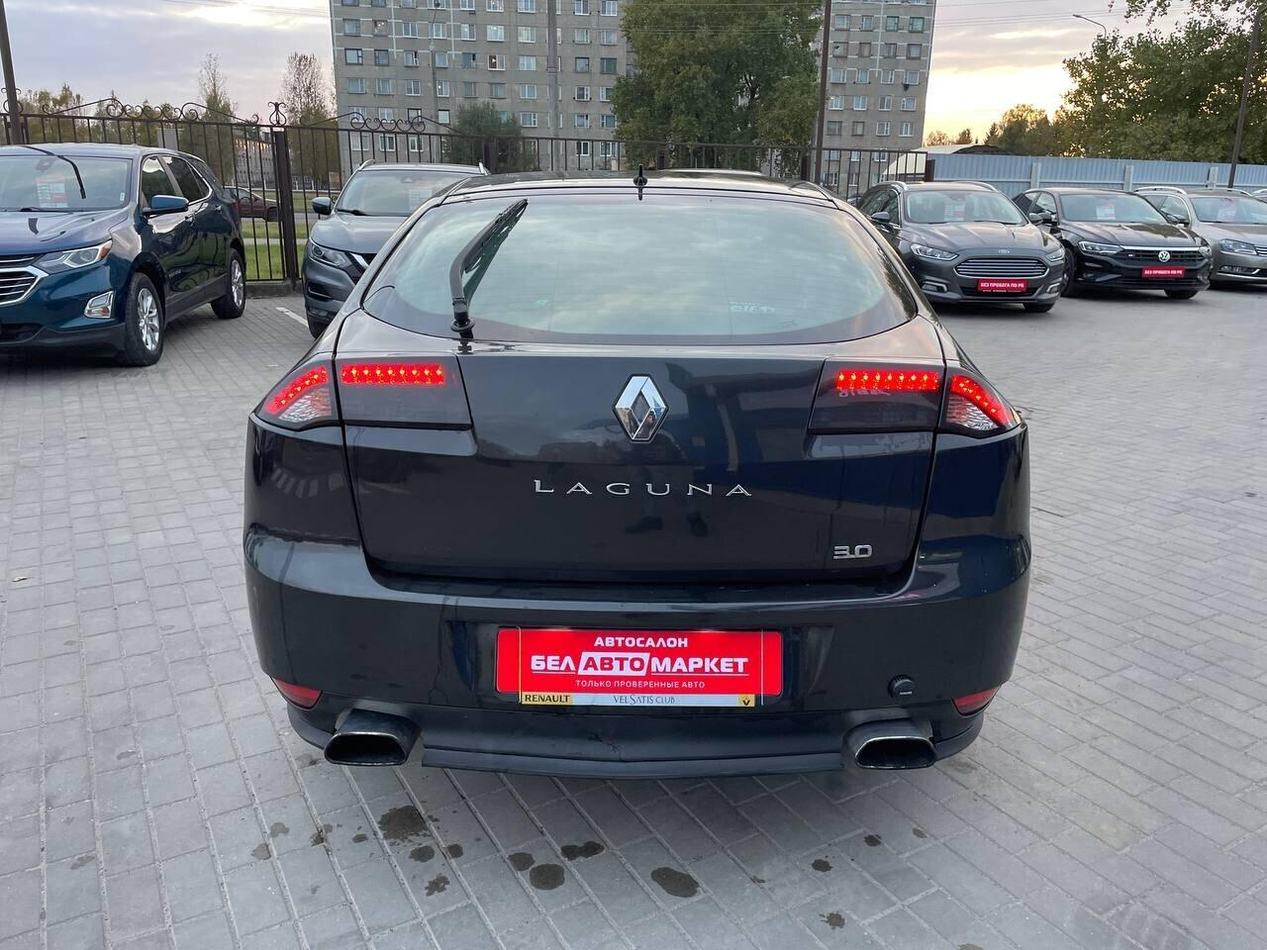Laguna_2010-2015: (234, 167, 1039, 807)
